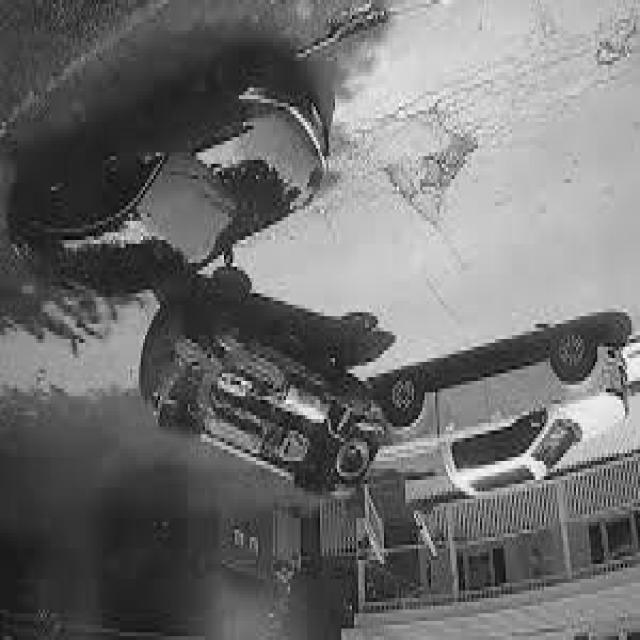severe: (131, 296, 394, 512)
